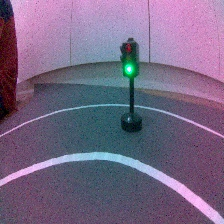green: (116, 36, 147, 134)
